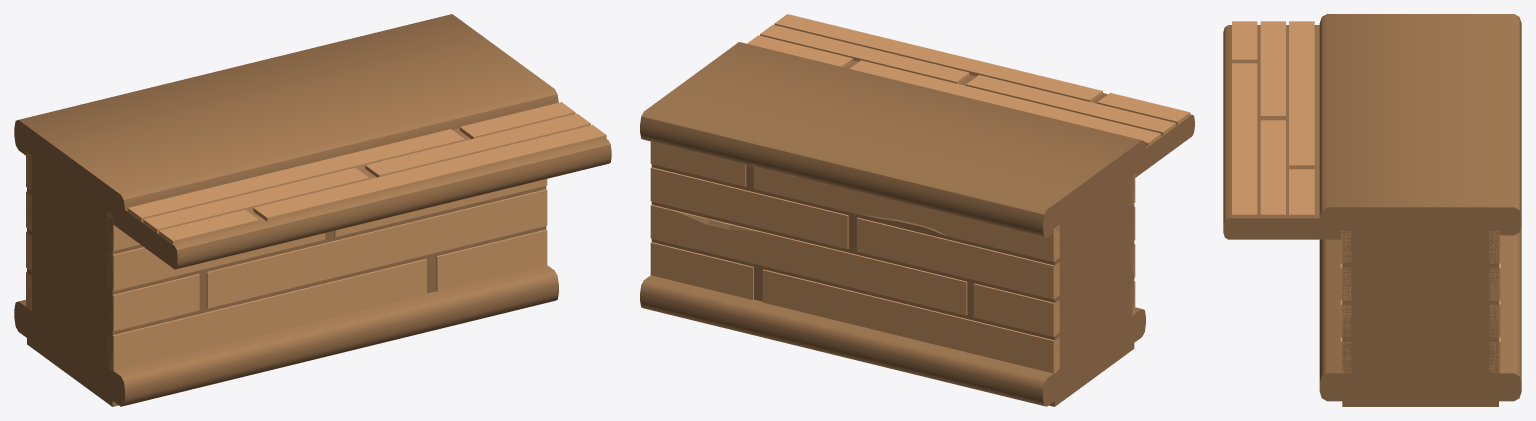
The model's file is quaternius-sushi-restaurant-environment-counter-straight-2.glb.
3 views of the same model, side by side, from view 1: azimuth 30°, elevation 25°; view 2: azimuth 150°, elevation 25°; view 3: azimuth 270°, elevation 25° (orthographic). The views are drawn at different scales.
Parts seen in each view (by area): view 1: Environment_Counter_Straight_2; view 2: Environment_Counter_Straight_2; view 3: Environment_Counter_Straight_2.
Boxes of the visible parts, <box> form: Environment_Counter_Straight_2: <box>14,14,611,406</box>; Environment_Counter_Straight_2: <box>640,14,1194,406</box>; Environment_Counter_Straight_2: <box>1223,14,1521,406</box>.
Size of the model in its own units: 4 by 1.92 by 2.61.
1 material, 1 textured.
